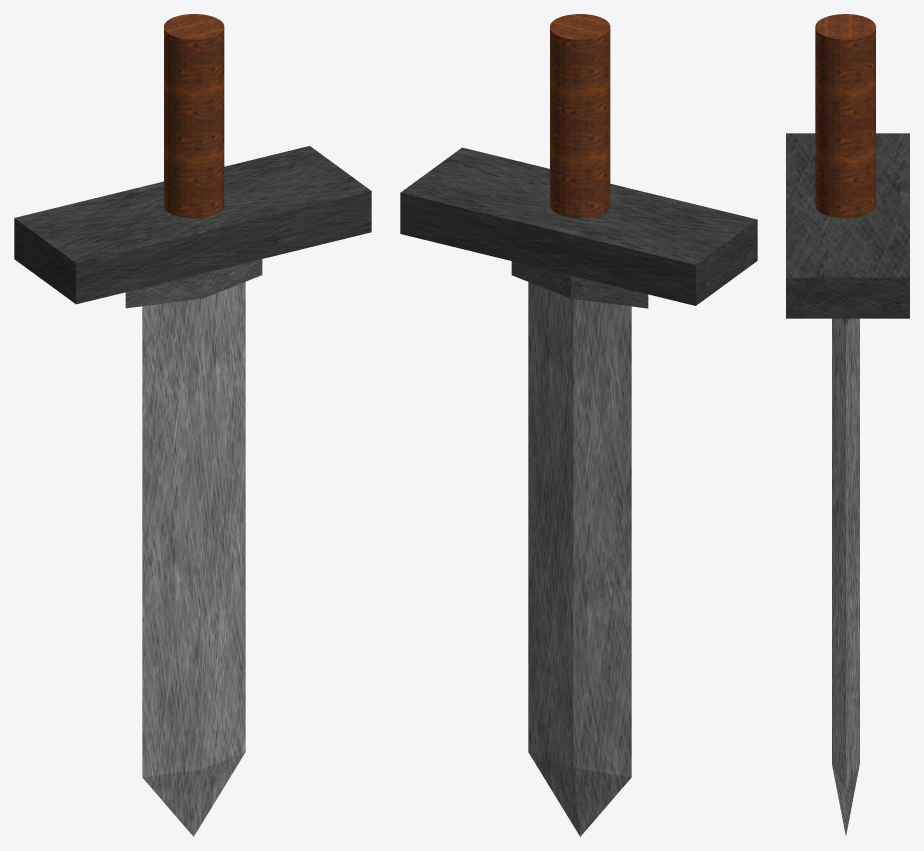
File: StatusChanger_Attack_Obj.fbx
3 renders of one model, left to right at view 1: azimuth 30°, elevation 25°; view 2: azimuth 150°, elevation 25°; view 3: azimuth 270°, elevation 25°, orthographic.
Visible parts, largest first — view 1: 立方体.001; view 2: 立方体.001; view 3: 立方体.001.
Part boxes in pixels (x1,y1,x2,y2): 立方体.001: (14,14,371,836); 立方体.001: (400,14,757,836); 立方体.001: (786,14,909,835).
Size of the model in its own units: 3.27 by 8.57 by 1.19.
